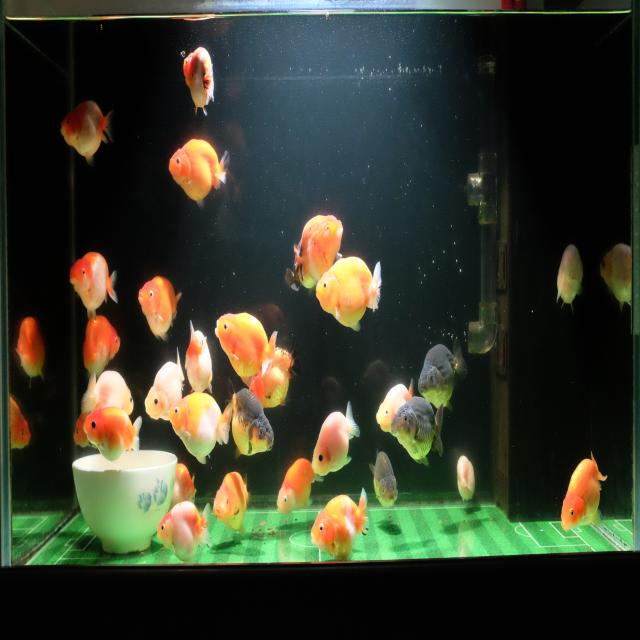Tilapia: (314, 255, 383, 336), (168, 388, 233, 468), (168, 136, 230, 212), (213, 310, 278, 382), (222, 375, 276, 458), (310, 487, 369, 562), (247, 333, 302, 410), (559, 450, 607, 534), (310, 399, 361, 478), (67, 244, 118, 322), (416, 336, 468, 412), (60, 95, 112, 171), (390, 395, 444, 468), (293, 210, 345, 283), (156, 499, 213, 563), (81, 408, 144, 463), (144, 346, 187, 425), (137, 274, 182, 345), (211, 467, 252, 543), (275, 456, 325, 518), (81, 366, 134, 418), (13, 311, 50, 384), (184, 316, 216, 399), (598, 238, 632, 314), (80, 315, 121, 378), (182, 44, 216, 117), (374, 378, 413, 436), (556, 242, 584, 318), (368, 448, 398, 513), (10, 393, 35, 451), (454, 454, 476, 506)
